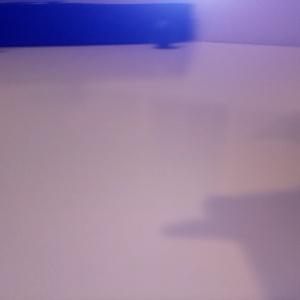dead_ball: (153, 21, 174, 46)
